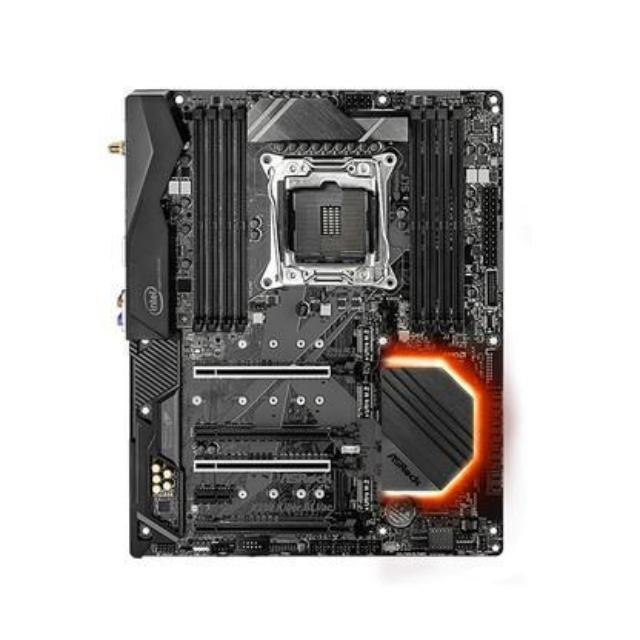Mainboard: (122, 84, 510, 562)
